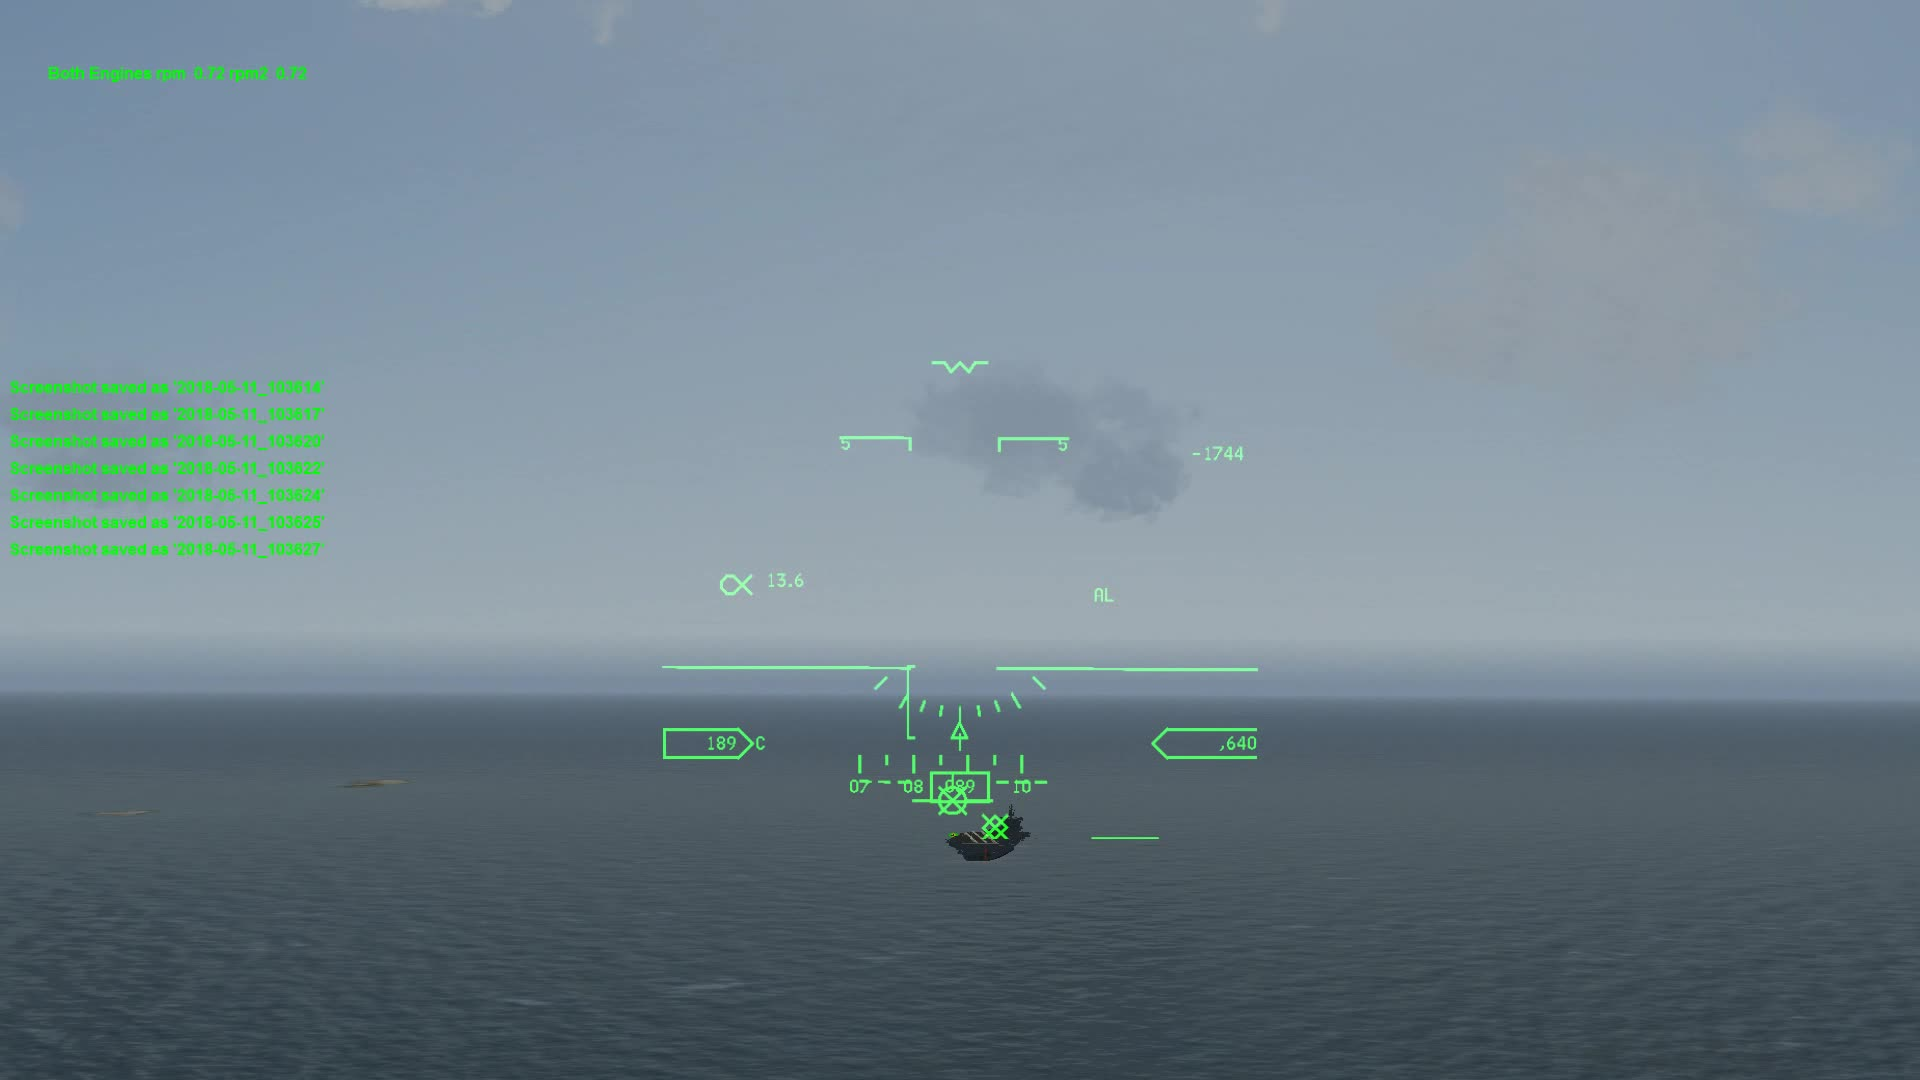speed vector: (913, 791, 992, 818)
